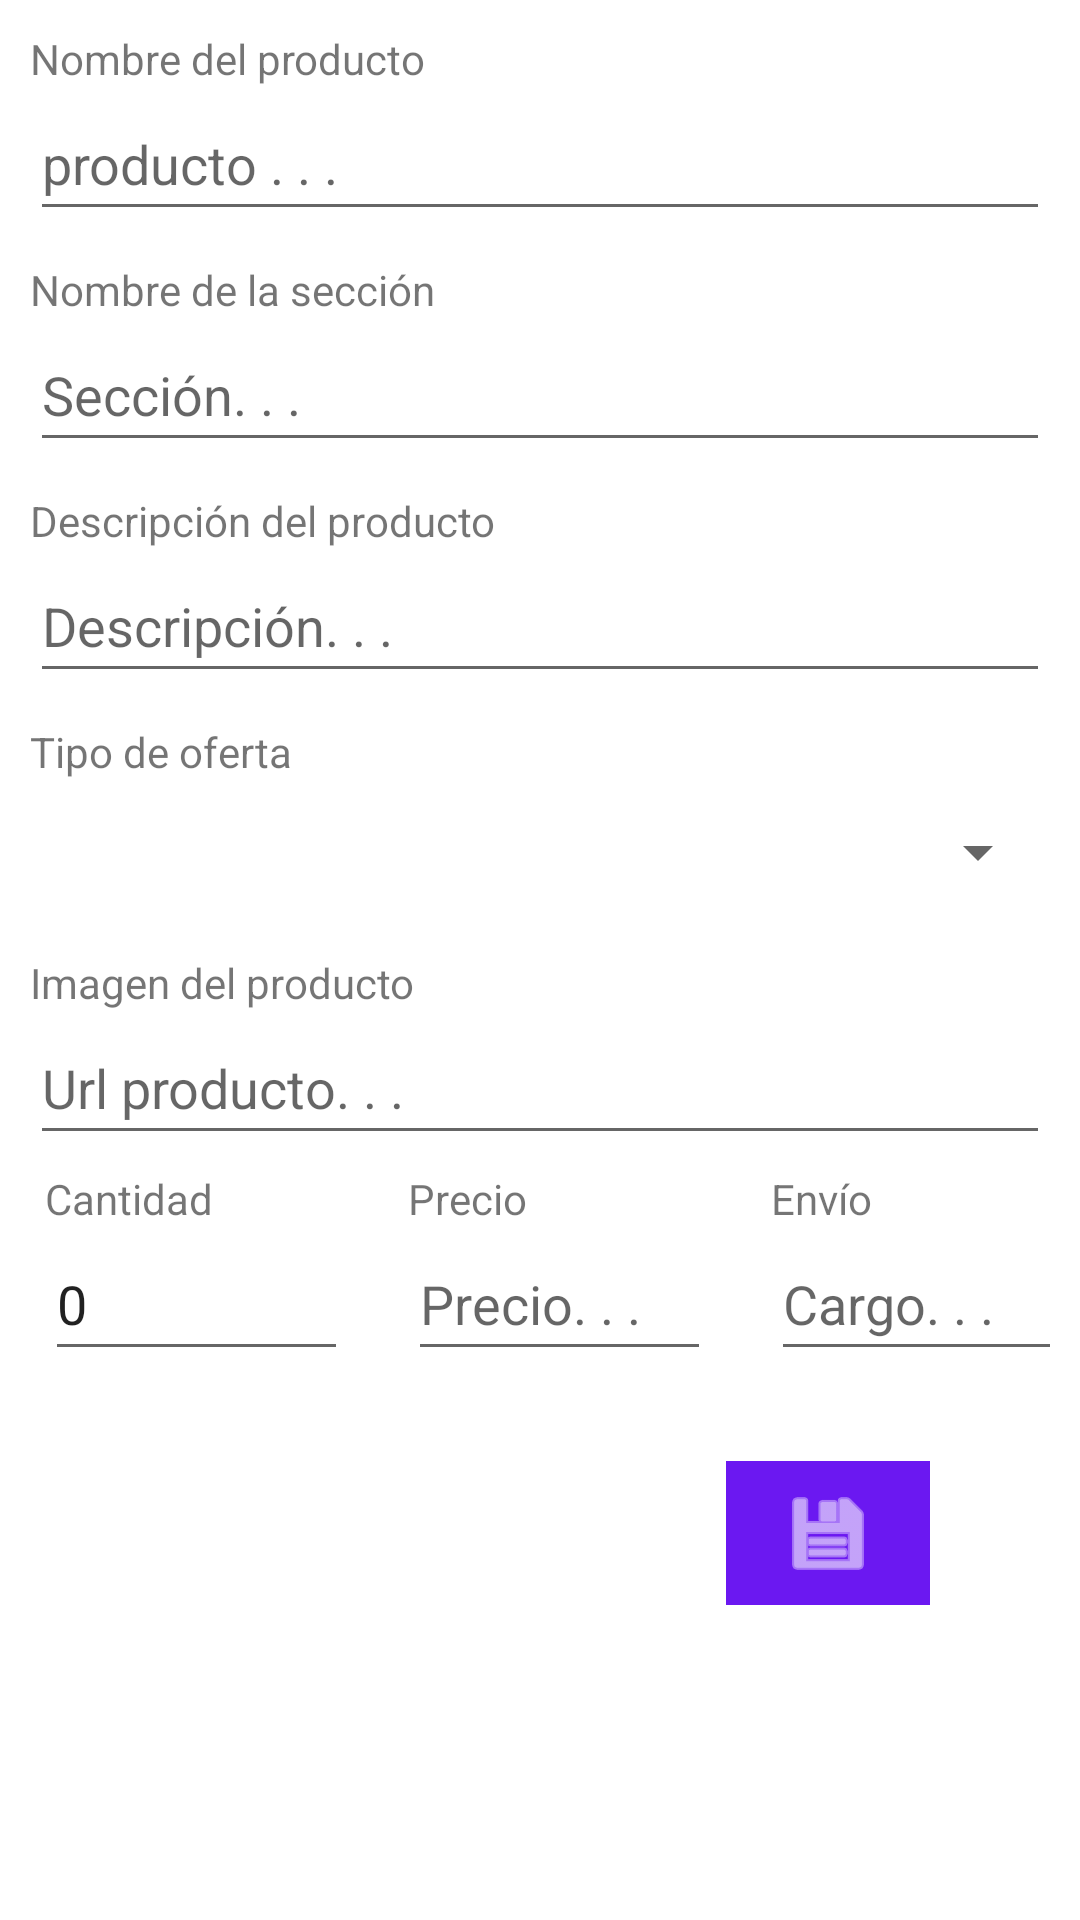

Icons on this 1080 × 1920 Android screen, each with the point to tap as point (x, y):
save: point (828, 1533)
